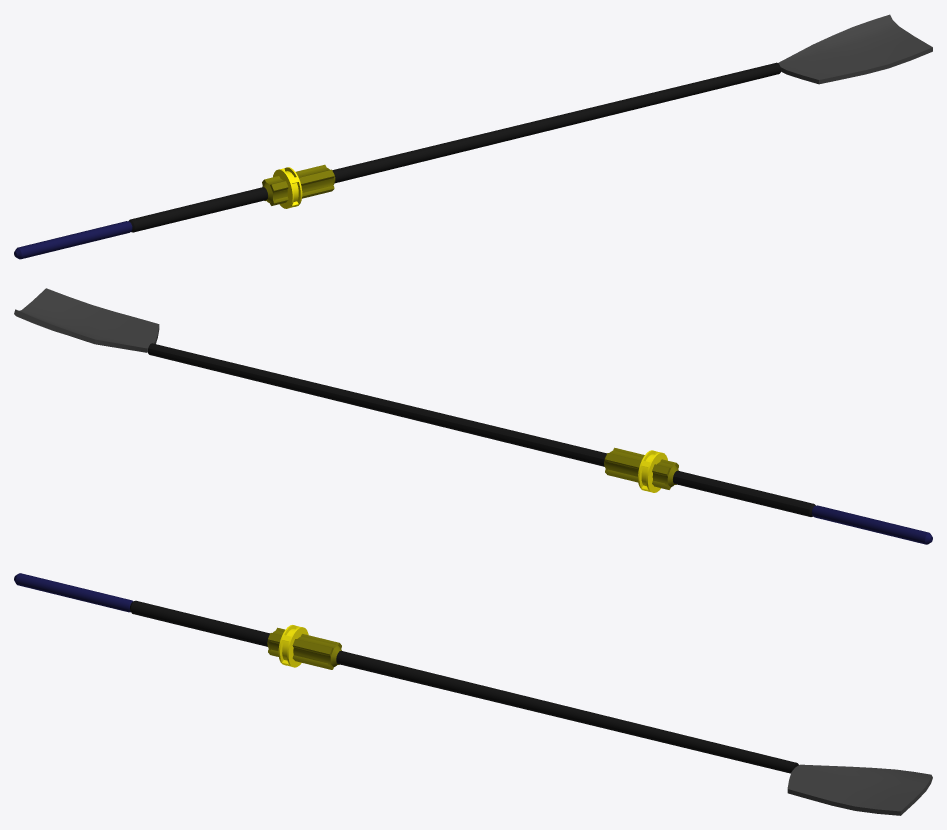
The model's file is Oar.FBX.
3 views of the same model, one above another, from view 1: azimuth 30°, elevation 25°; view 2: azimuth 150°, elevation 25°; view 3: azimuth 330°, elevation 25° (orthographic). The views are drawn at different scales.
Parts seen in each view (by area): view 1: Cylinder001; view 2: Cylinder001; view 3: Cylinder001.
Boxes of the visible parts, x1,y1,x2,y2 form: Cylinder001: (14, 14, 932, 259); Cylinder001: (14, 288, 932, 544); Cylinder001: (14, 573, 932, 815).
Bounding box in the file's own units: 112 × 4.36 × 8.52.
